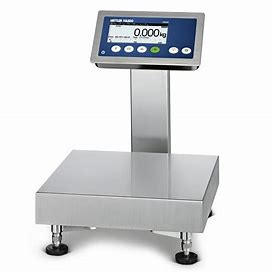Industrial Scale: (34, 9, 220, 264)
